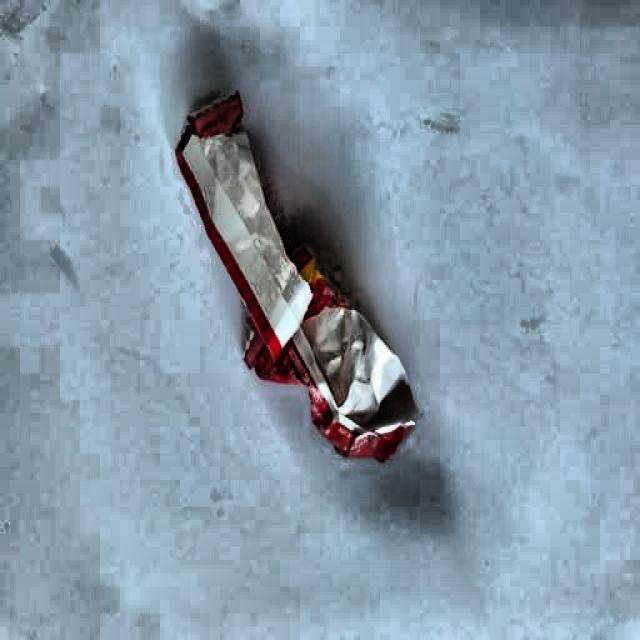plastic: (173, 92, 416, 446)
